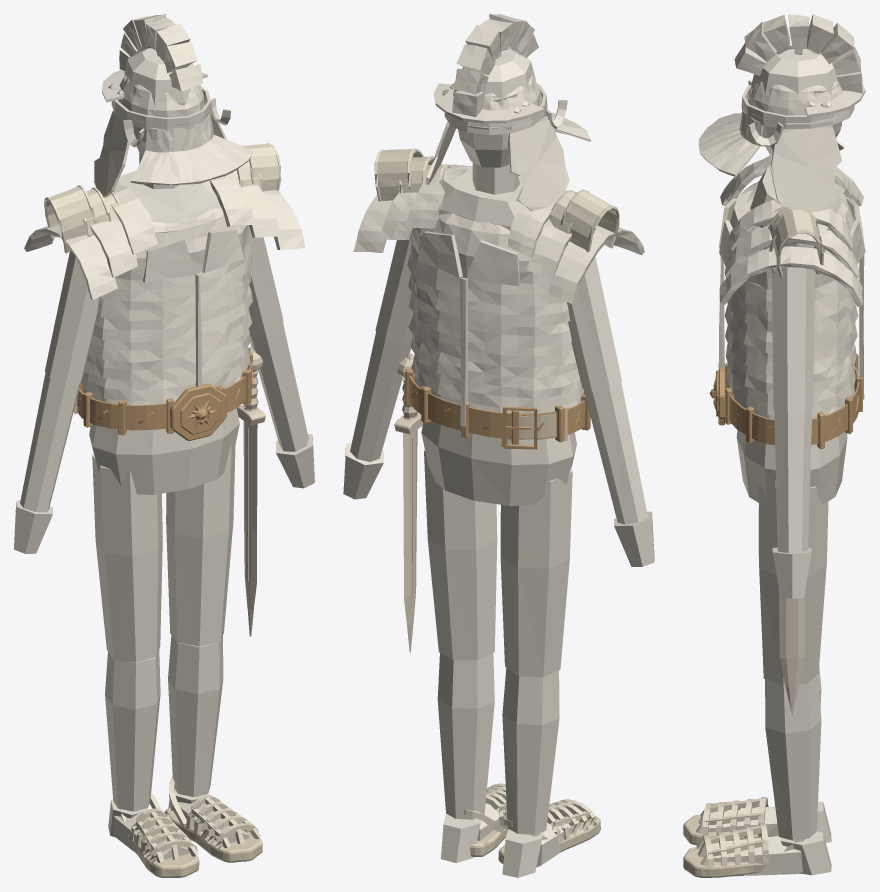
File: roman-male-average.glb
3 renders of one model, left to right at view 1: azimuth 30°, elevation 25°; view 2: azimuth 150°, elevation 25°; view 3: azimuth 270°, elevation 25°, orthographic. The views are drawn at different scales.
Visible parts, largest first — view 1: leg_upper_l, torso, leg_upper_r, leg_lower_r, leg_lower_l, helmet:neck_guard, arm_lower_l, arm_upper_l, arm_lower_r, cuirass:girth_hoop_4, cuirass:girth_hoop_2, cuirass:girth_hoop_3 (+34 smaller); view 2: leg_upper_l, torso, leg_upper_r, leg_lower_l, leg_lower_r, arm_lower_l, arm_upper_l, arm_lower_r, helmet:cheek_guard_r, cuirass:girth_hoop_2, cuirass:girth_hoop_1, cuirass:girth_hoop_3 (+37 smaller); view 3: leg_lower_r, leg_upper_r, arm_upper_r, helmet:cheek_guard_l, arm_lower_r, torso, cuirass:shoulder_lame_l2, head, helmet:neck_guard, gladius:blade, cuirass:shoulder_lame_l1, helmet:bowl (+40 smaller).
Part boxes in pixels (x1,y1,x2,y2): leg_upper_l: [92, 454, 162, 662]; torso: [89, 171, 239, 494]; leg_upper_r: [166, 445, 235, 646]; leg_lower_r: [168, 635, 223, 796]; leg_lower_l: [105, 650, 160, 811]; helmet:neck_guard: [130, 114, 252, 184]; arm_lower_l: [20, 372, 80, 512]; arm_upper_l: [45, 251, 99, 382]; arm_lower_r: [249, 323, 308, 451]; cuirass:girth_hoop_4: [92, 285, 252, 342]; cuirass:girth_hoop_2: [84, 329, 249, 382]; cuirass:girth_hoop_3: [88, 308, 252, 362]; leg_upper_l: [500, 467, 572, 677]; torso: [421, 167, 576, 505]; leg_upper_r: [424, 449, 497, 660]; leg_lower_l: [502, 668, 559, 834]; leg_lower_r: [437, 653, 494, 819]; arm_lower_l: [583, 382, 647, 524]; arm_upper_l: [567, 256, 621, 391]; arm_lower_r: [350, 331, 411, 461]; helmet:cheek_guard_r: [508, 116, 569, 210]; cuirass:girth_hoop_2: [410, 333, 580, 390]; cuirass:girth_hoop_1: [411, 354, 584, 409]; cuirass:girth_hoop_3: [408, 312, 575, 367]; leg_lower_r: [765, 675, 821, 840]; leg_upper_r: [758, 481, 828, 685]; arm_upper_r: [772, 267, 814, 410]; helmet:cheek_guard_l: [770, 125, 845, 212]; arm_lower_r: [774, 408, 812, 553]; torso: [736, 166, 847, 504]; cuirass:shoulder_lame_l2: [719, 246, 863, 306]; head: [751, 49, 842, 155]; helmet:neck_guard: [698, 110, 763, 176]; gladius:blade: [779, 589, 805, 716]; cuirass:shoulder_lame_l1: [725, 225, 858, 278]; helmet:bowl: [748, 54, 843, 115].
Bounding box in the file's own units: 0.7231 × 1.88 × 0.3685.
